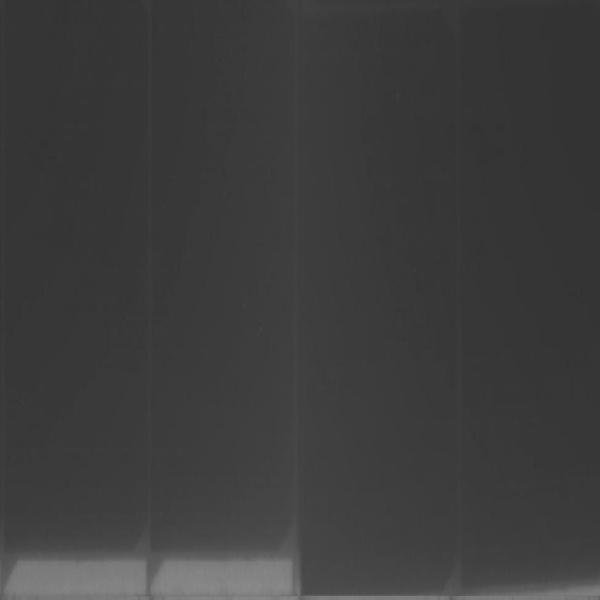no_electricity: (301, 1, 597, 594), (1, 1, 296, 558)
